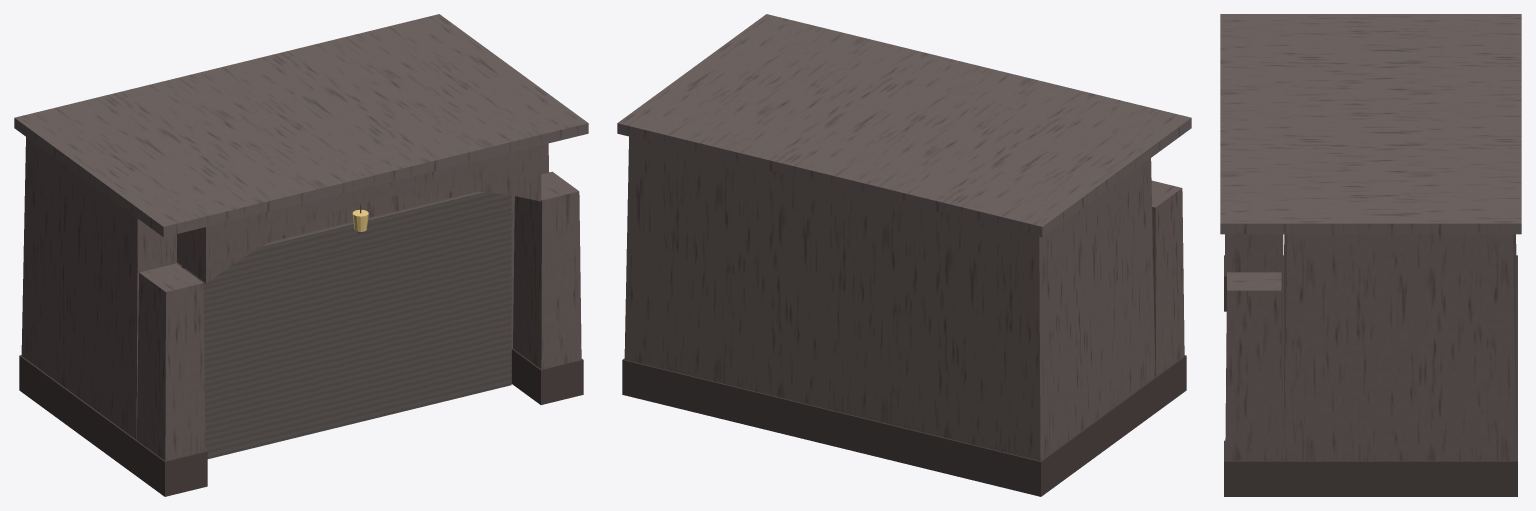
File: SM_Souq_Stall_W5D30H30.fbx
3 views of the same model, side by side, from view 1: azimuth 30°, elevation 25°; view 2: azimuth 150°, elevation 25°; view 3: azimuth 270°, elevation 25° (orthographic).
Parts seen in each view (by area): view 1: SM_Souq_Stall_W5D30H30; view 2: SM_Souq_Stall_W5D30H30; view 3: SM_Souq_Stall_W5D30H30.
Boxes of the visible parts, left/top/right/bottom form: SM_Souq_Stall_W5D30H30: left=14, top=14, right=588, bottom=496; SM_Souq_Stall_W5D30H30: left=617, top=14, right=1191, bottom=496; SM_Souq_Stall_W5D30H30: left=1220, top=14, right=1521, bottom=496.
Size of the model in its own units: 510 by 312 by 310.
6 materials, 6 textured.
